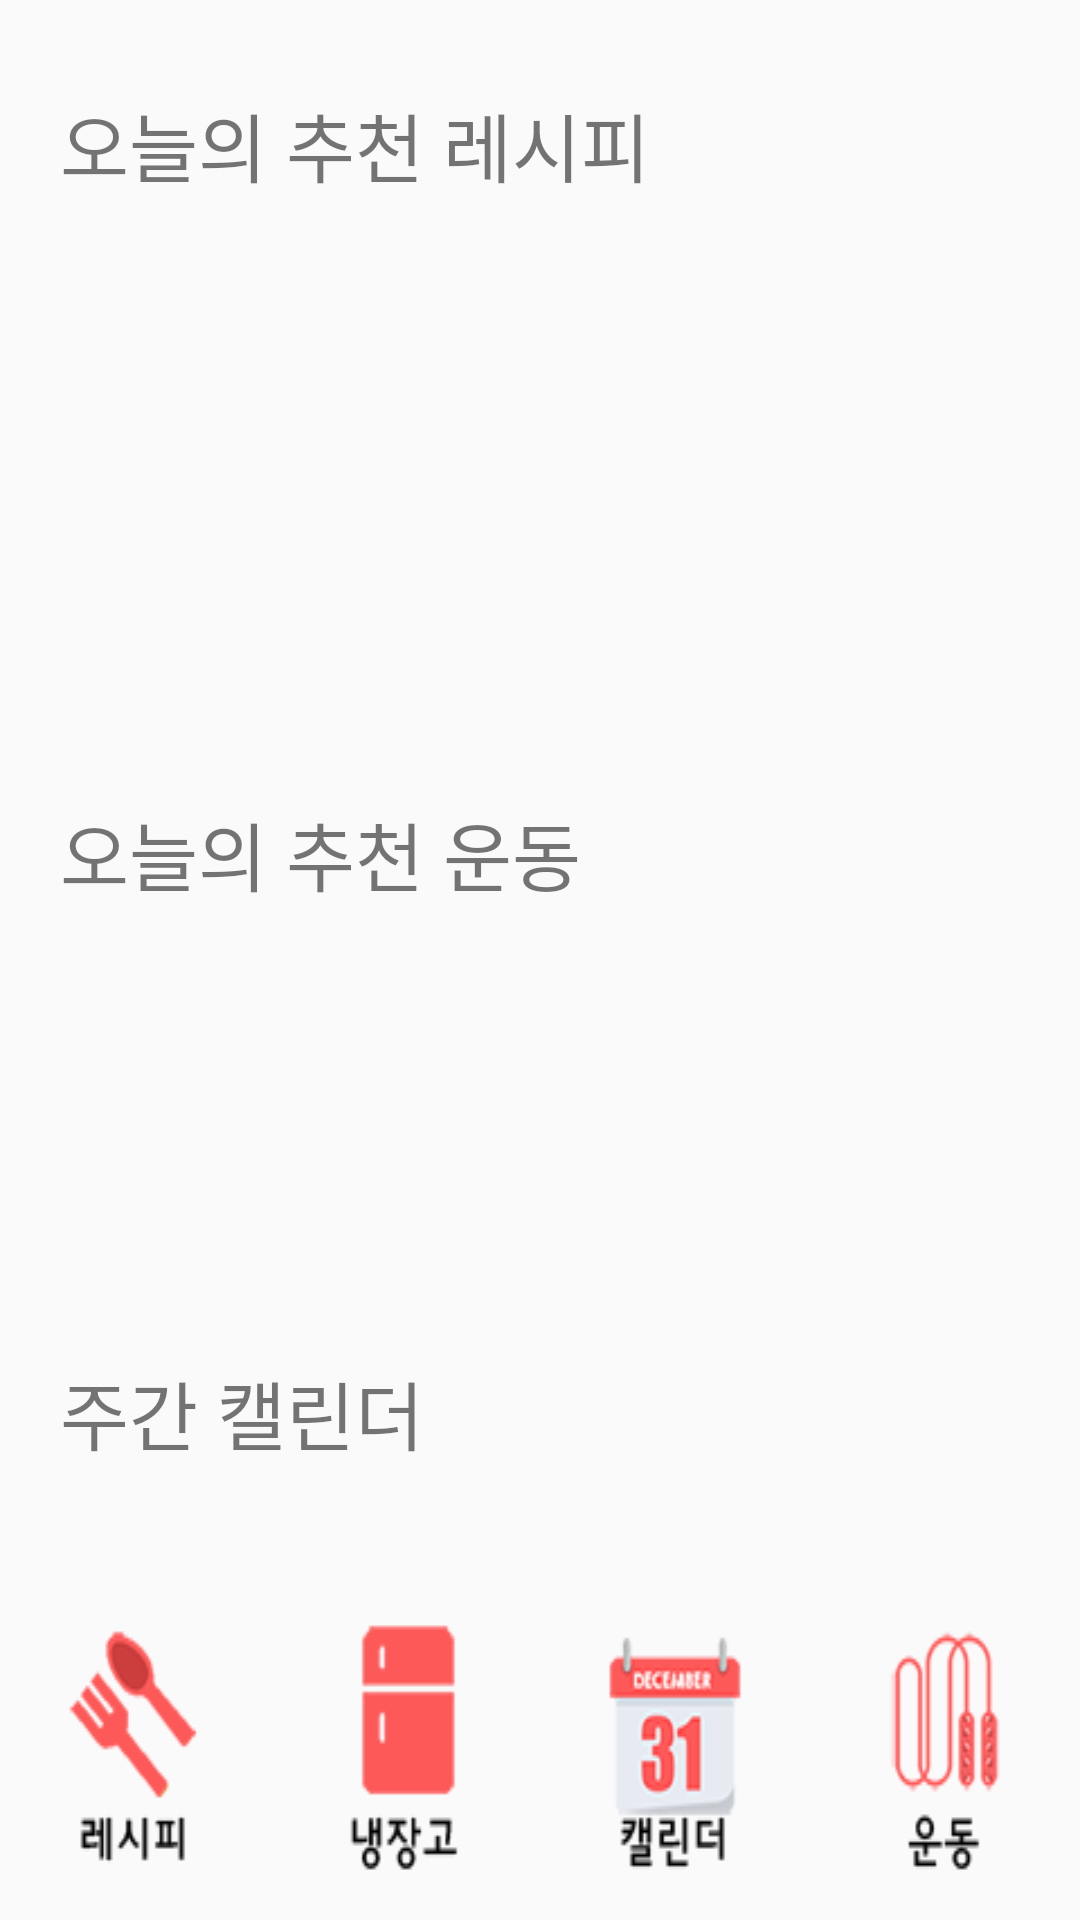

Screen size 1080x1920. Icon name, then its box in pixels as (x1, y1, x2, y2):
spoon: (69, 1631, 197, 1861)
